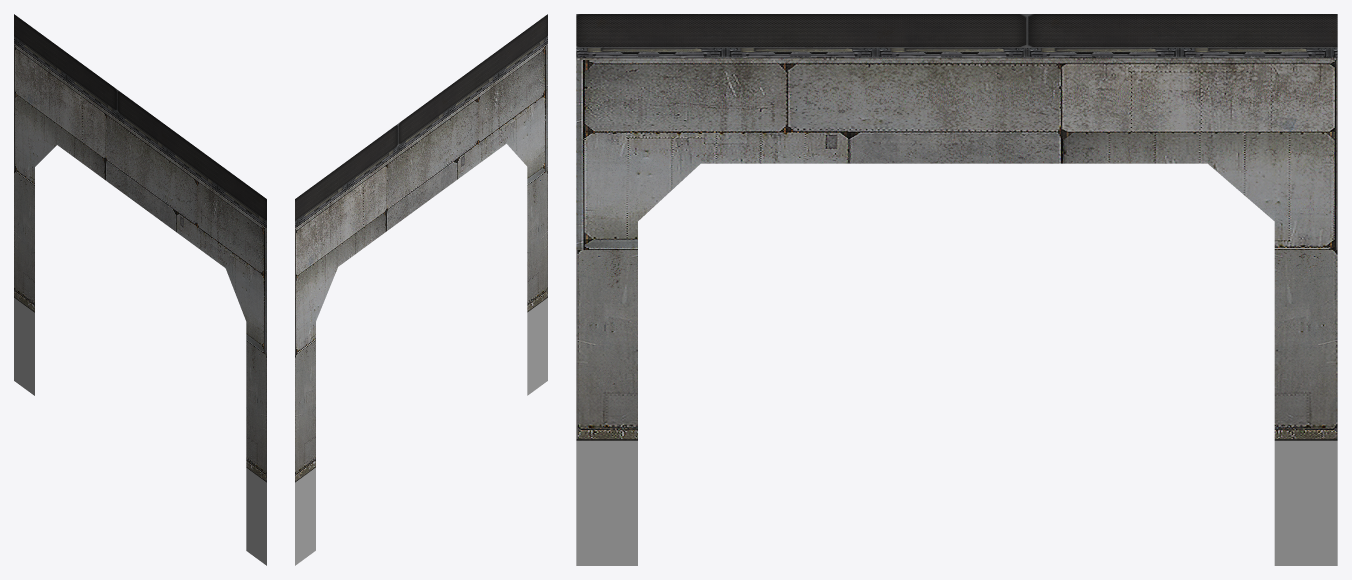
The model's file is Wall_A_Mid4mts_08.fbx.
3 views of the same model, side by side, from view 1: azimuth 30°, elevation 25°; view 2: azimuth 150°, elevation 25°; view 3: azimuth 270°, elevation 25° (orthographic). The views are drawn at different scales.
Visible parts, largest first — view 1: Wall_A_Mid4mts_08; view 2: Wall_A_Mid4mts_08; view 3: Wall_A_Mid4mts_08.
Part boxes in pixels (bbox=[...]): Wall_A_Mid4mts_08: bbox=[14, 14, 266, 565]; Wall_A_Mid4mts_08: bbox=[295, 14, 547, 565]; Wall_A_Mid4mts_08: bbox=[576, 14, 1337, 565].
Size of the model in its own units: 5.91e-12 by 400 by 500.
